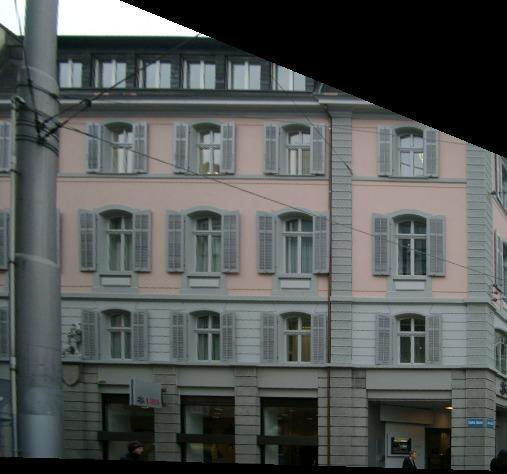window: (278, 212, 314, 274), (187, 211, 223, 273), (98, 210, 134, 272), (393, 215, 425, 278), (101, 309, 133, 363), (189, 310, 221, 364), (280, 313, 312, 367), (394, 314, 426, 368), (189, 123, 221, 176), (280, 124, 312, 176), (102, 123, 133, 174), (393, 127, 424, 178), (270, 56, 307, 92), (91, 53, 127, 89), (180, 55, 216, 91), (225, 56, 261, 92), (135, 54, 171, 89), (46, 54, 82, 89)
